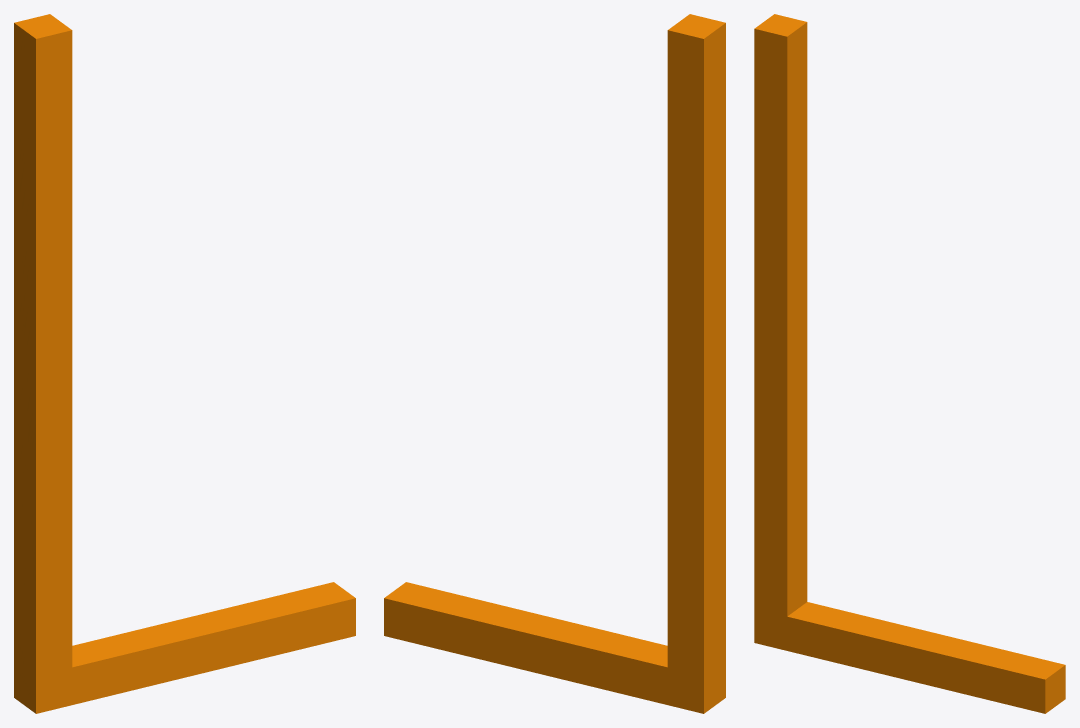
The picture shows the model from 3 angles, left to right: view 1: azimuth 30°, elevation 25°; view 2: azimuth 150°, elevation 25°; view 3: azimuth 330°, elevation 25°; orthographic projection. The views are drawn at different scales.
Visible parts, largest first — view 1: L; view 2: L; view 3: L.
Part boxes in pixels (x1,y1,x2,y2): L: [14, 14, 355, 713]; L: [384, 14, 725, 713]; L: [754, 14, 1065, 713].
Size of the model in its own units: 41.7 by 84.1 by 5.
